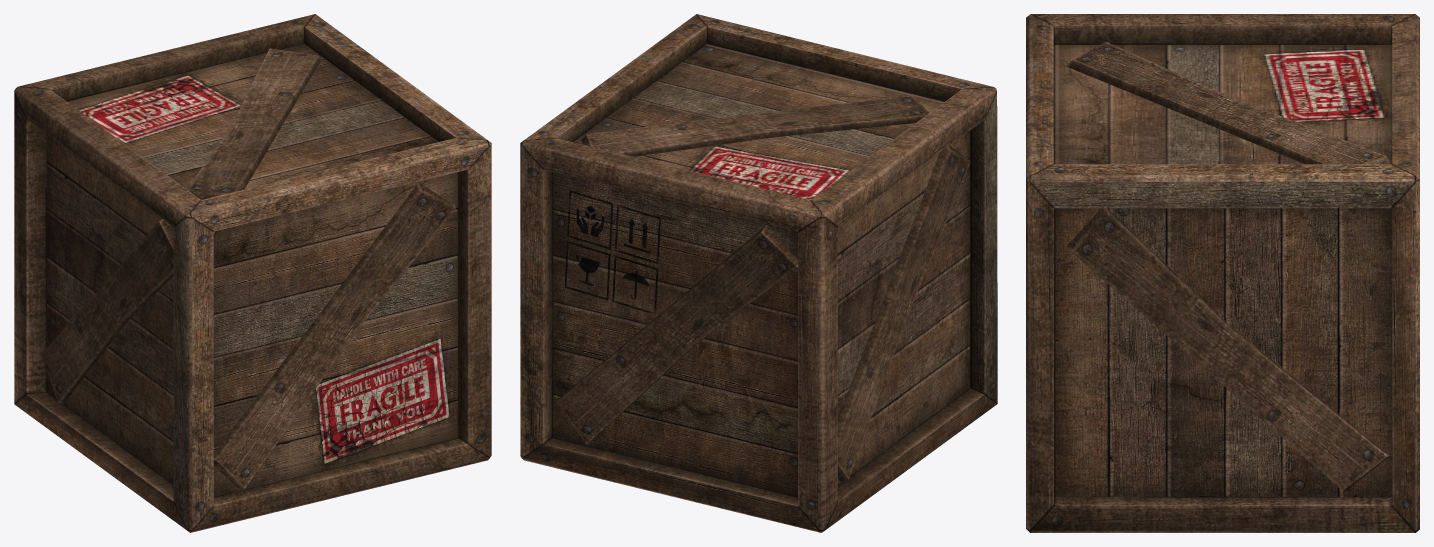
The model's file is crate.glb.
3 views of the same model, side by side, from view 1: azimuth 30°, elevation 25°; view 2: azimuth 150°, elevation 25°; view 3: azimuth 270°, elevation 25° (orthographic). The views are drawn at different scales.
Visible parts, largest first — view 1: crate002_Material #51_0; view 2: crate002_Material #51_0; view 3: crate002_Material #51_0.
Boxes of the visible parts, x1=… form: crate002_Material #51_0: x1=14, y1=14, x2=491, y2=532; crate002_Material #51_0: x1=520, y1=14, x2=997, y2=532; crate002_Material #51_0: x1=1026, y1=14, x2=1419, y2=532.
Bounding box in the file's own units: 0.9977 × 1 × 1.
1 material, 1 textured.
